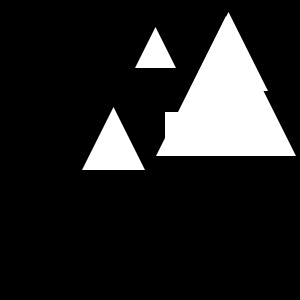circle: (165, 112, 195, 142)
triangle: (156, 16, 296, 156), (189, 12, 268, 91), (82, 107, 145, 170), (135, 27, 176, 68)
